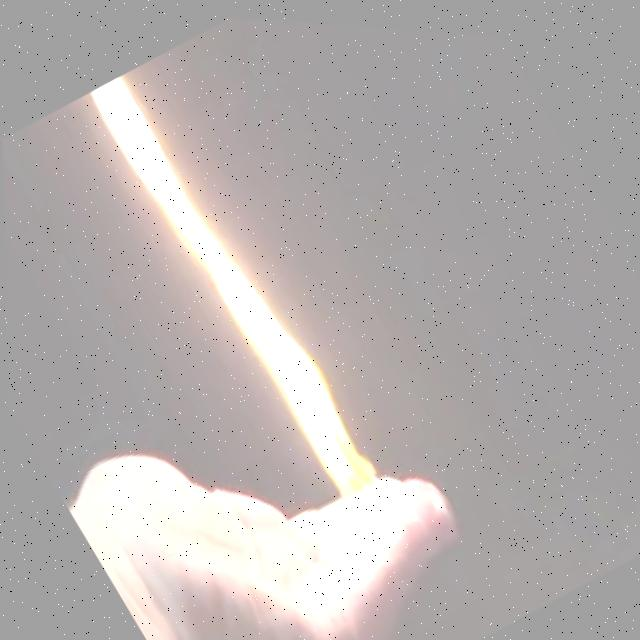Fire: (75, 55, 419, 555)
